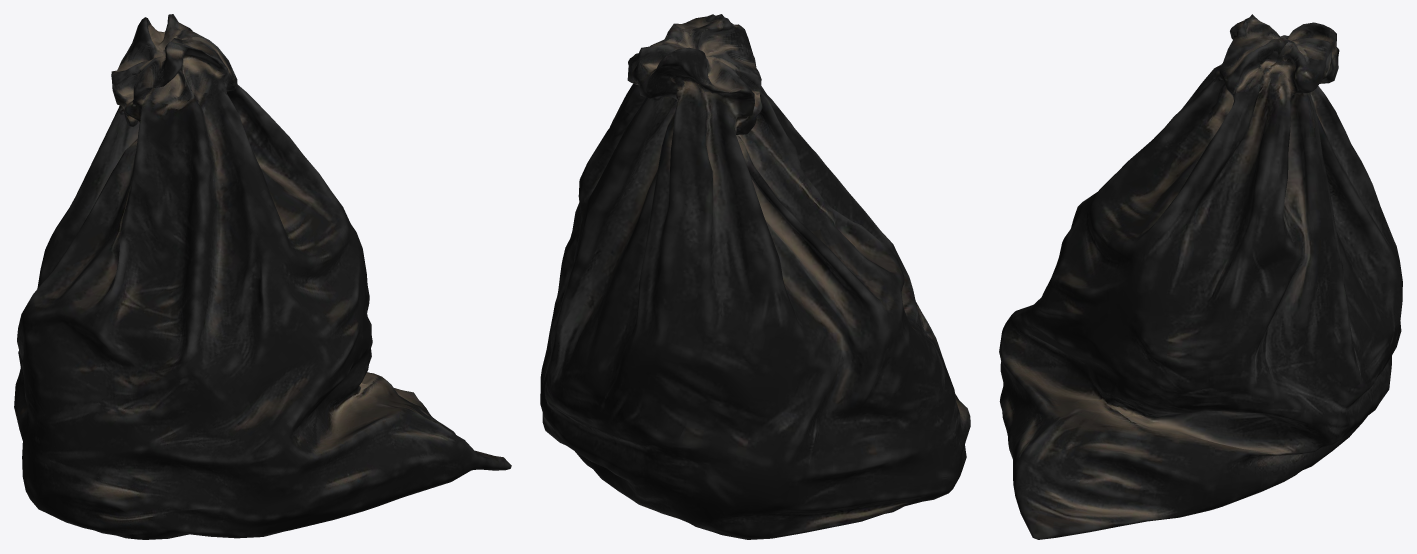
The model's file is SM_Bin_Bag01.glb.
3 views of the same model, side by side, from view 1: azimuth 30°, elevation 25°; view 2: azimuth 150°, elevation 25°; view 3: azimuth 270°, elevation 25° (orthographic). The views are drawn at different scales.
Parts seen in each view (by area): view 1: SM_Bin_Bag01; view 2: SM_Bin_Bag01; view 3: SM_Bin_Bag01.
Part boxes in pixels (<box>): SM_Bin_Bag01: <box>14,14,511,539</box>; SM_Bin_Bag01: <box>540,14,970,539</box>; SM_Bin_Bag01: <box>999,14,1402,539</box>.
Bounding box in the file's own units: 0.5772 × 0.5598 × 0.4949.
Materials: 1 (1 with a texture image).
